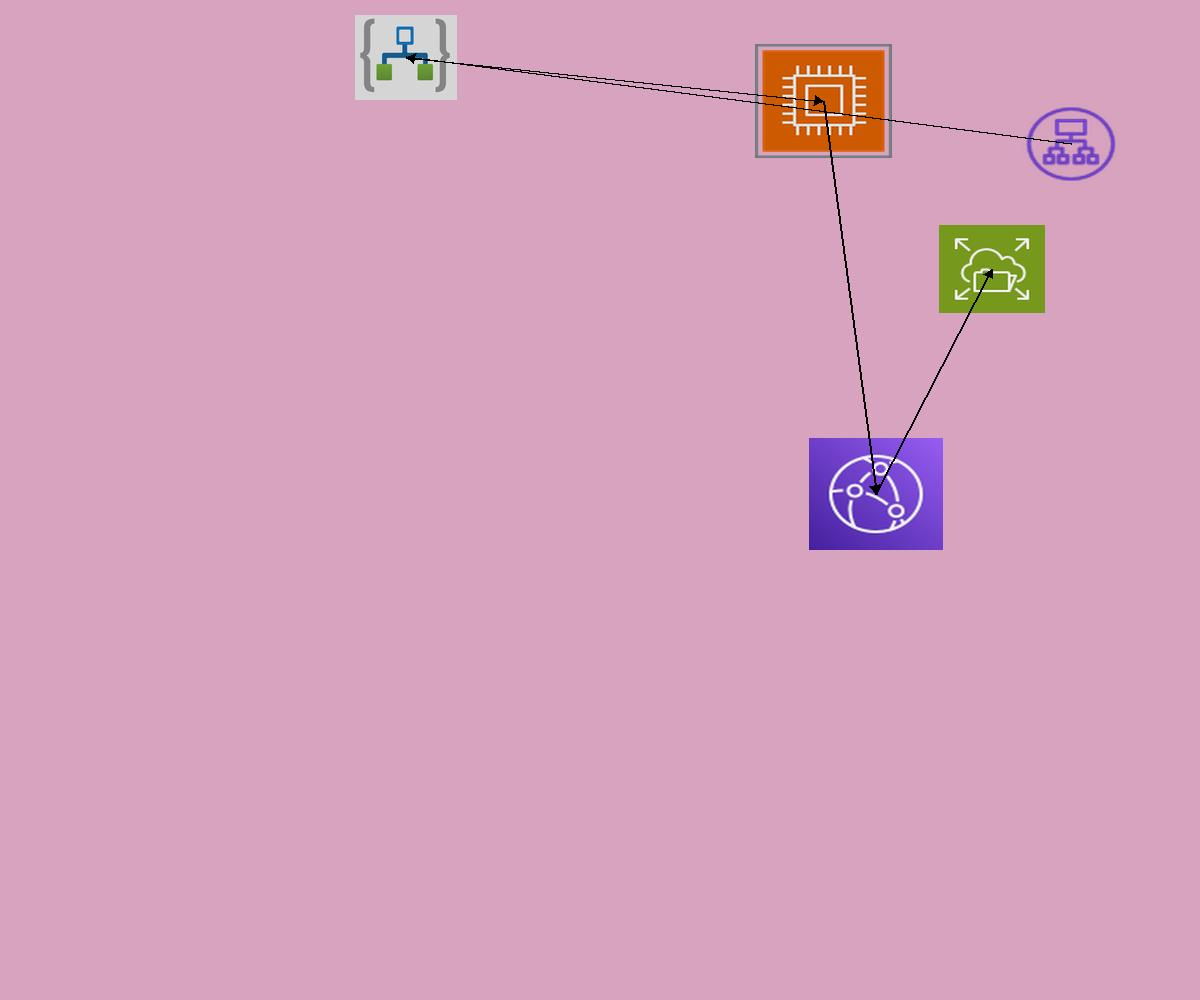AWS-Category_Compute: (755, 44, 892, 158)
AWS-CloudFront: (809, 438, 943, 550)
AWS-EFS: (939, 225, 1045, 313)
AWS-Res_Elastic-Load-Balancing_Application-Load-Balancer: (1023, 104, 1119, 184)
Azure_integration-204-Logic-Apps: (355, 15, 457, 100)
